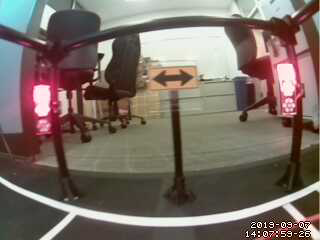Left_Right_sign: (147, 65, 200, 91)
Traffic_light_red: (276, 63, 302, 120), (34, 87, 51, 133)
